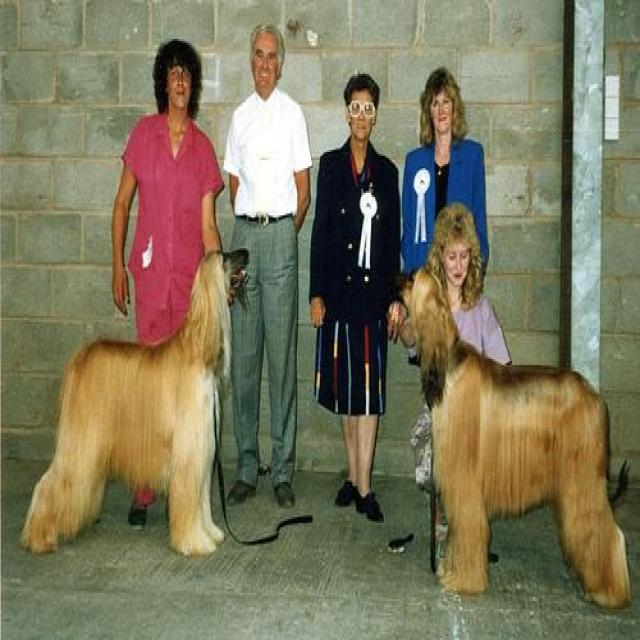afghan_hound: (379, 266, 633, 622), (18, 244, 247, 554)
